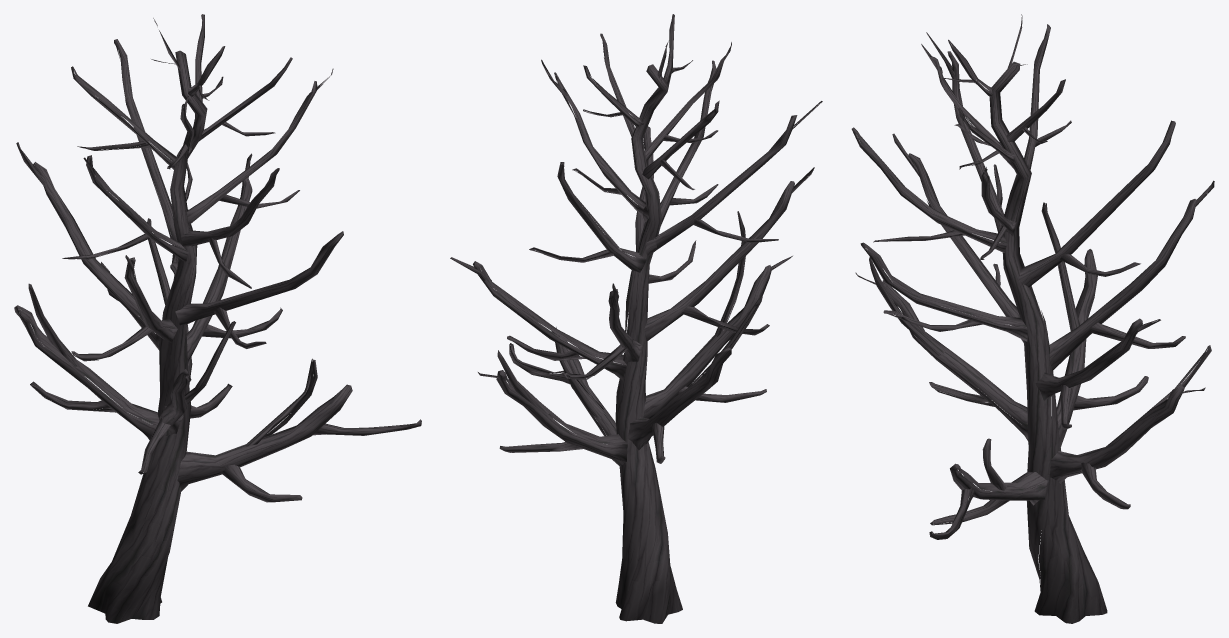
The model's file is dead_tree_branchy.glb.
The picture shows the model from 3 angles, left to right: view 1: azimuth 30°, elevation 25°; view 2: azimuth 150°, elevation 25°; view 3: azimuth 270°, elevation 25°; orthographic projection. The views are drawn at different scales.
Visible parts, largest first — view 1: DeadTree_2; view 2: DeadTree_2; view 3: DeadTree_2.
Part boxes in pixels (x1=…): DeadTree_2: x1=14, y1=14, x2=421, y2=623; DeadTree_2: x1=450, y1=14, x2=822, y2=623; DeadTree_2: x1=851, y1=14, x2=1214, y2=623.
Bounding box in the file's own units: 6.73 × 11.49 × 6.36.
1 material, 1 textured.
